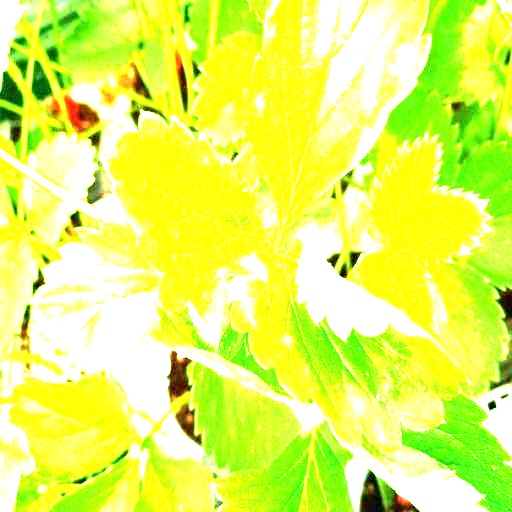Powdery Mildew Leaf: (228, 240, 472, 454), (97, 110, 287, 345), (243, 0, 433, 232), (354, 391, 511, 511)
